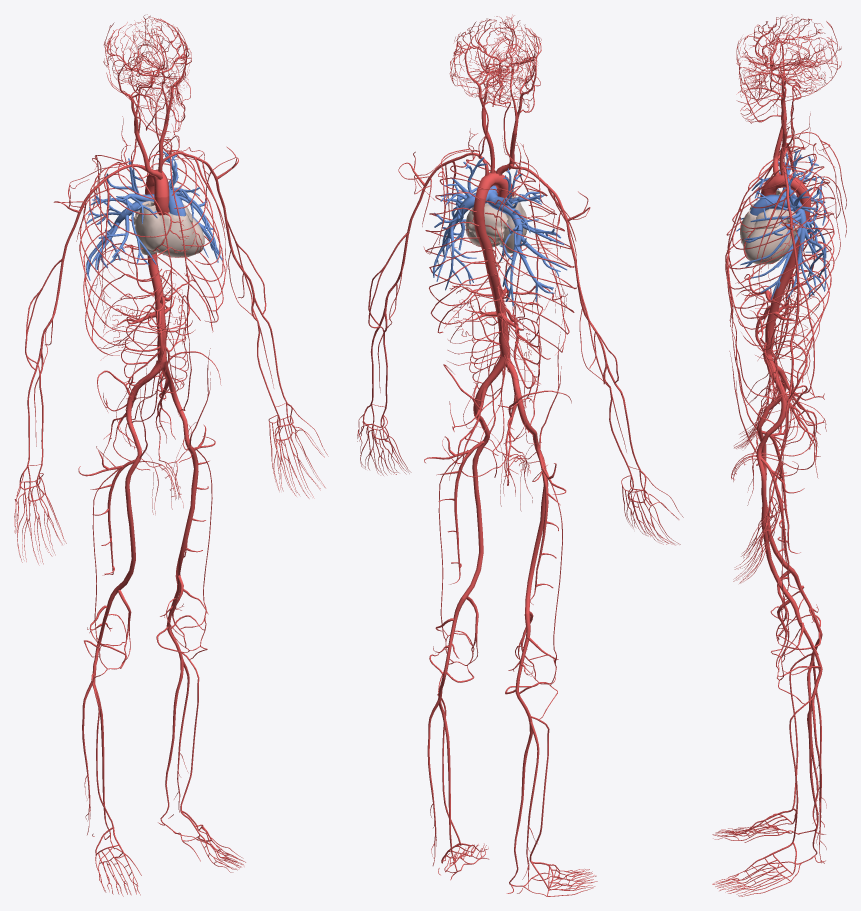
The model's file is Arterial_system.glb.
3 renders of one model, left to right at view 1: azimuth 30°, elevation 25°; view 2: azimuth 150°, elevation 25°; view 3: azimuth 270°, elevation 25°, orthographic. The views are drawn at different scales.
Parts seen in each view (by area): view 1: Posterior intercostal arteries.r, Posterior intercostal arteries.l, Right atrium, Right ventricle, Femoral artery.r, Femoral artery.l, Abdominal aorta; view 2: Posterior intercostal arteries.r, Posterior intercostal arteries.l, Femoral artery.l, Thoracic aorta, Femoral artery.r, Left atrium, Abdominal aorta; view 3: Posterior intercostal arteries.l, Left ventricle, Femoral artery.l, Posterior intercostal arteries.r, Abdominal aorta, Femoral artery.r, Left atrium, Aortic arch, Brachial artery.l, Posterior tibial artery.l, Posterior tibial artery.r, Lateral basal segmental artery of left lung (+15 smaller).
Boxes of the visible parts, x1=… form: Posterior intercostal arteries.r: x1=79, y1=163, x2=169, y2=355; Posterior intercostal arteries.l: x1=148, y1=153, x2=225, y2=332; Right atrium: x1=135, y1=201, x2=170, y2=255; Right ventricle: x1=154, y1=212, x2=197, y2=257; Femoral artery.r: x1=114, y1=432, x2=141, y2=592; Femoral artery.l: x1=176, y1=420, x2=198, y2=576; Abdominal aorta: x1=148, y1=263, x2=166, y2=362; Posterior intercostal arteries.r: x1=478, y1=188, x2=576, y2=359; Posterior intercostal arteries.l: x1=425, y1=177, x2=504, y2=333; Femoral artery.l: x1=461, y1=419, x2=489, y2=599; Thoracic aorta: x1=473, y1=197, x2=496, y2=276; Femoral artery.r: x1=525, y1=432, x2=548, y2=613; Left atrium: x1=468, y1=203, x2=508, y2=242; Abdominal aorta: x1=488, y1=271, x2=510, y2=357; Posterior intercostal arteries.l: x1=726, y1=176, x2=834, y2=360; Left ventricle: x1=745, y1=223, x2=792, y2=264; Femoral artery.l: x1=757, y1=432, x2=794, y2=602; Posterior intercostal arteries.r: x1=726, y1=153, x2=834, y2=308; Abdominal aorta: x1=763, y1=267, x2=794, y2=355; Femoral artery.r: x1=757, y1=407, x2=794, y2=573; Left atrium: x1=754, y1=208, x2=799, y2=238; Aortic arch: x1=762, y1=174, x2=807, y2=195; Brachial artery.l: x1=789, y1=217, x2=799, y2=375; Posterior tibial artery.l: x1=801, y1=702, x2=818, y2=863; Posterior tibial artery.r: x1=802, y1=659, x2=818, y2=833; Lateral basal segmental artery of left lung: x1=751, y1=225, x2=801, y2=299.
Size of the model in its own units: 0.6638 by 1.69 by 0.2445.
